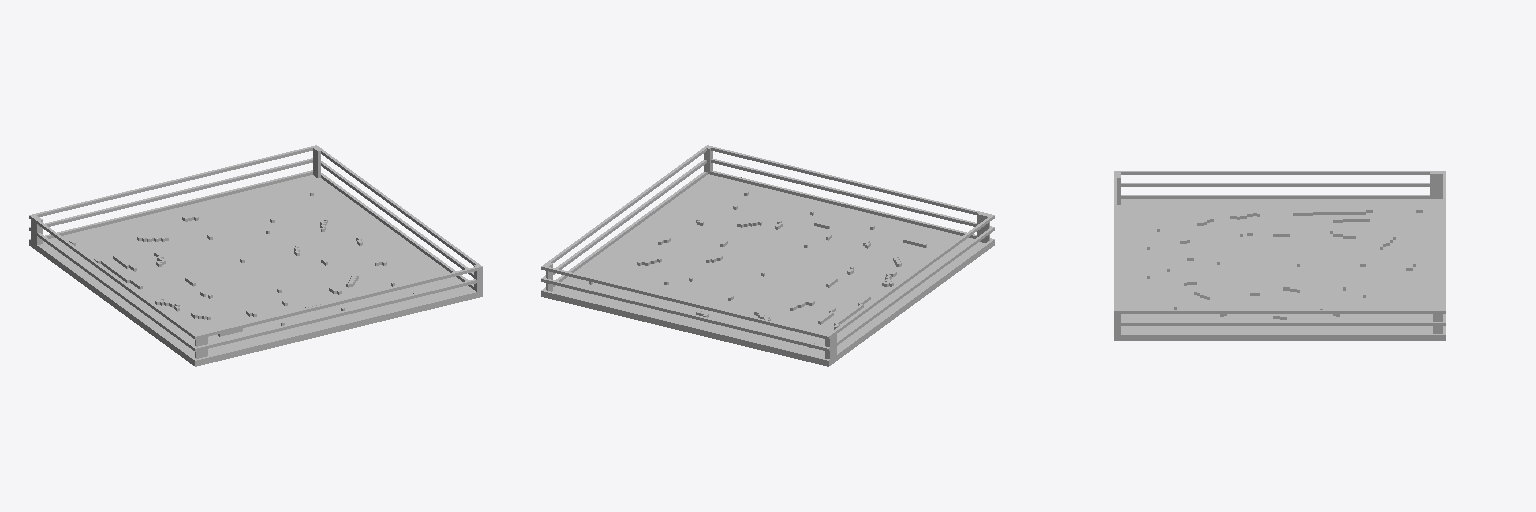
File: map.obj
3 renders of one model, left to right at view 1: azimuth 30°, elevation 25°; view 2: azimuth 150°, elevation 25°; view 3: azimuth 270°, elevation 25°, orthographic.
Size of the model in its own units: 100 by 10 by 100.